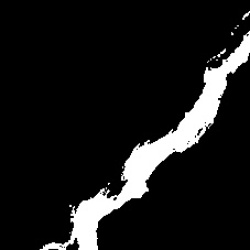crack: (43, 12, 248, 249)
